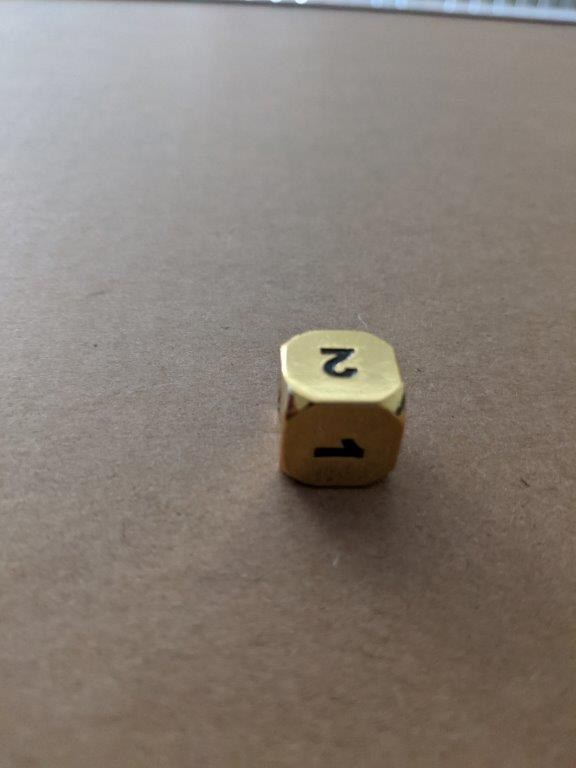d6-2: (271, 328, 406, 491)
